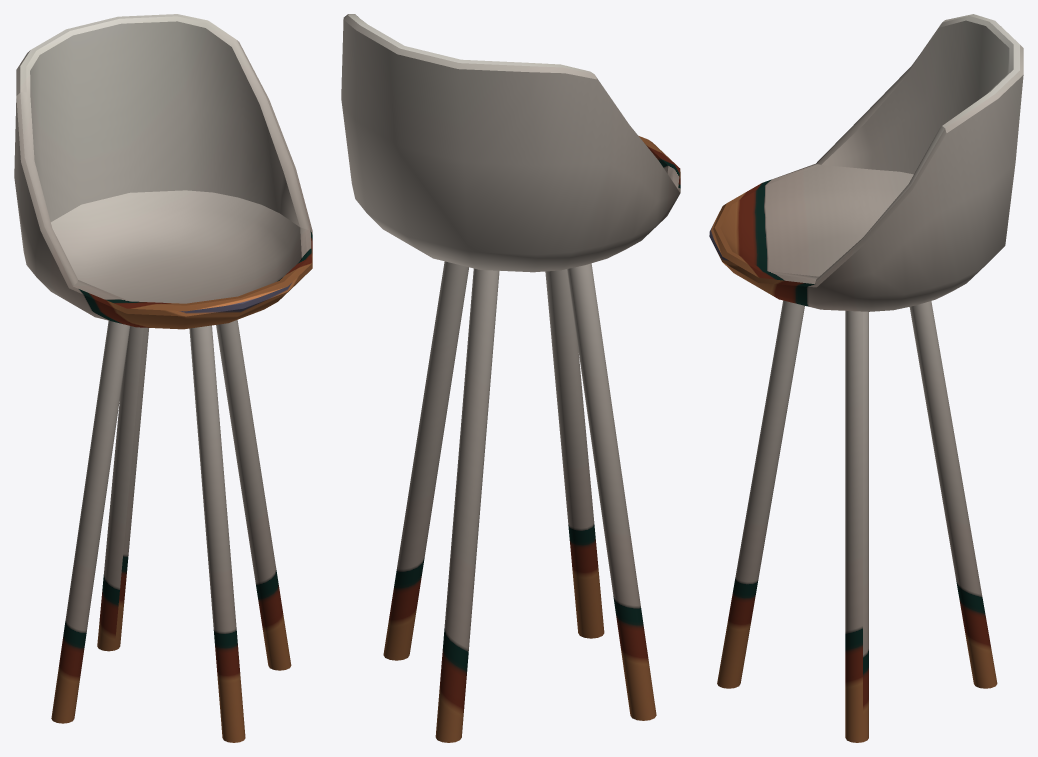
The model's file is ChairTall.fbx.
3 renders of one model, left to right at view 1: azimuth 30°, elevation 25°; view 2: azimuth 150°, elevation 25°; view 3: azimuth 270°, elevation 25°, orthographic. The views are drawn at different scales.
Visible parts, largest first — view 1: Cylinder035; view 2: Cylinder035; view 3: Cylinder035.
Part boxes in pixels (x1,y1,x2,y2): Cylinder035: (14, 14, 312, 742); Cylinder035: (341, 14, 680, 742); Cylinder035: (709, 14, 1023, 742).
Size of the model in its own units: 54.86 by 124 by 56.52.
